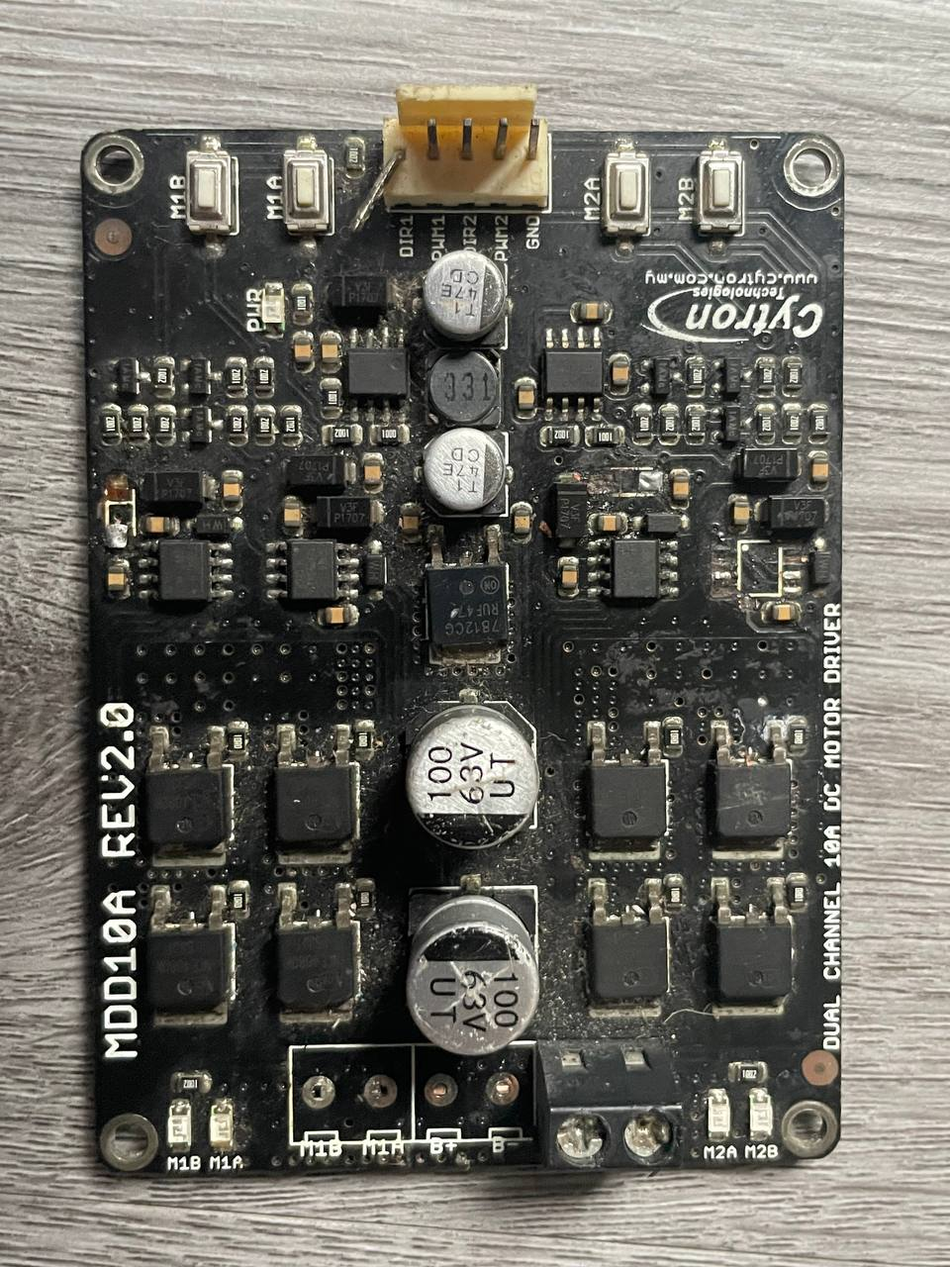bent_pin: (342, 145, 415, 235)
missing_comp: (733, 536, 787, 602), (575, 462, 663, 501), (103, 481, 138, 548)
missing_tb: (284, 1043, 415, 1154), (414, 1045, 534, 1150)
